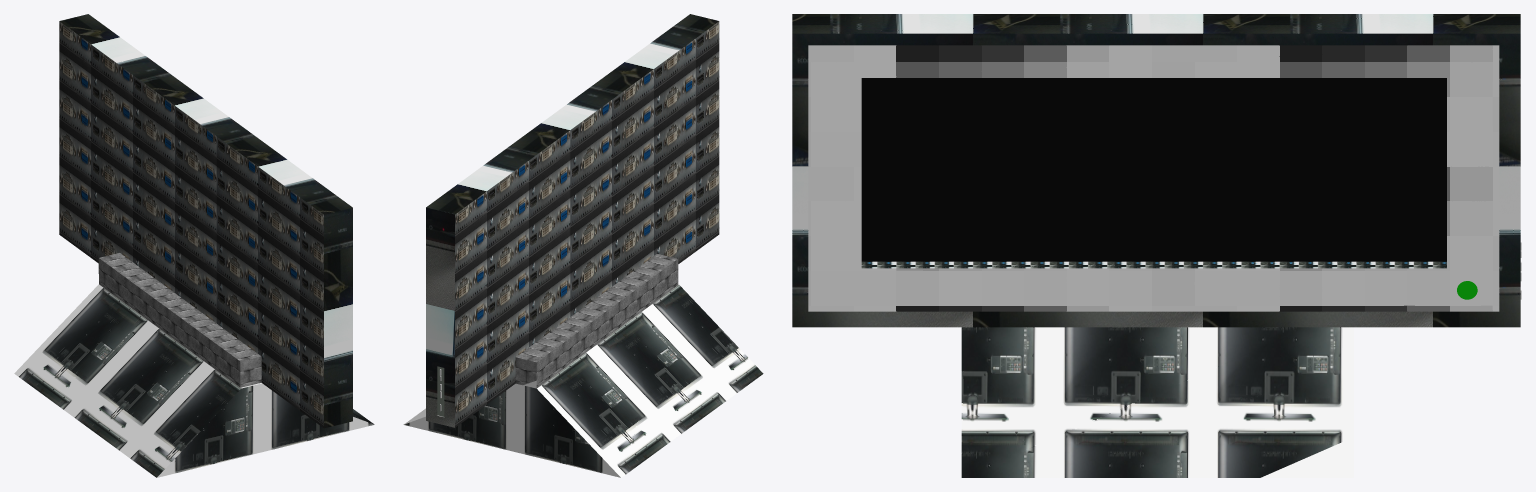
The picture shows the model from 3 angles, left to right: view 1: azimuth 30°, elevation 25°; view 2: azimuth 150°, elevation 25°; view 3: azimuth 270°, elevation 25°; orthographic projection. The views are drawn at different scales.
Parts seen in each view (by area): view 1: mesh1-geometry-3, mesh1-geometry-5, mesh1-geometry-0, mesh1-geometry-6; view 2: mesh1-geometry-3, mesh1-geometry-5, mesh1-geometry-0, mesh1-geometry-6; view 3: mesh1-geometry-8, mesh1-geometry-2, mesh1-geometry-5, mesh1-geometry-0, mesh1-geometry-4, mesh1-geometry-1.
Part boxes in pixels (<box>): mesh1-geometry-3: <box>59,21,323,427</box>; mesh1-geometry-5: <box>14,284,374,477</box>; mesh1-geometry-0: <box>59,14,352,428</box>; mesh1-geometry-6: <box>98,253,261,387</box>; mesh1-geometry-3: <box>455,21,719,427</box>; mesh1-geometry-5: <box>403,285,763,477</box>; mesh1-geometry-0: <box>426,14,718,427</box>; mesh1-geometry-6: <box>515,254,678,388</box>; mesh1-geometry-8: <box>861,78,1446,261</box>; mesh1-geometry-2: <box>808,45,1499,311</box>; mesh1-geometry-5: <box>961,327,1353,477</box>; mesh1-geometry-0: <box>792,14,1520,327</box>; mesh1-geometry-4: <box>861,261,1446,268</box>; mesh1-geometry-1: <box>1261,242,1521,477</box>.
Bounding box in the file's own units: 0.3792 × 0.469 × 0.7977.
